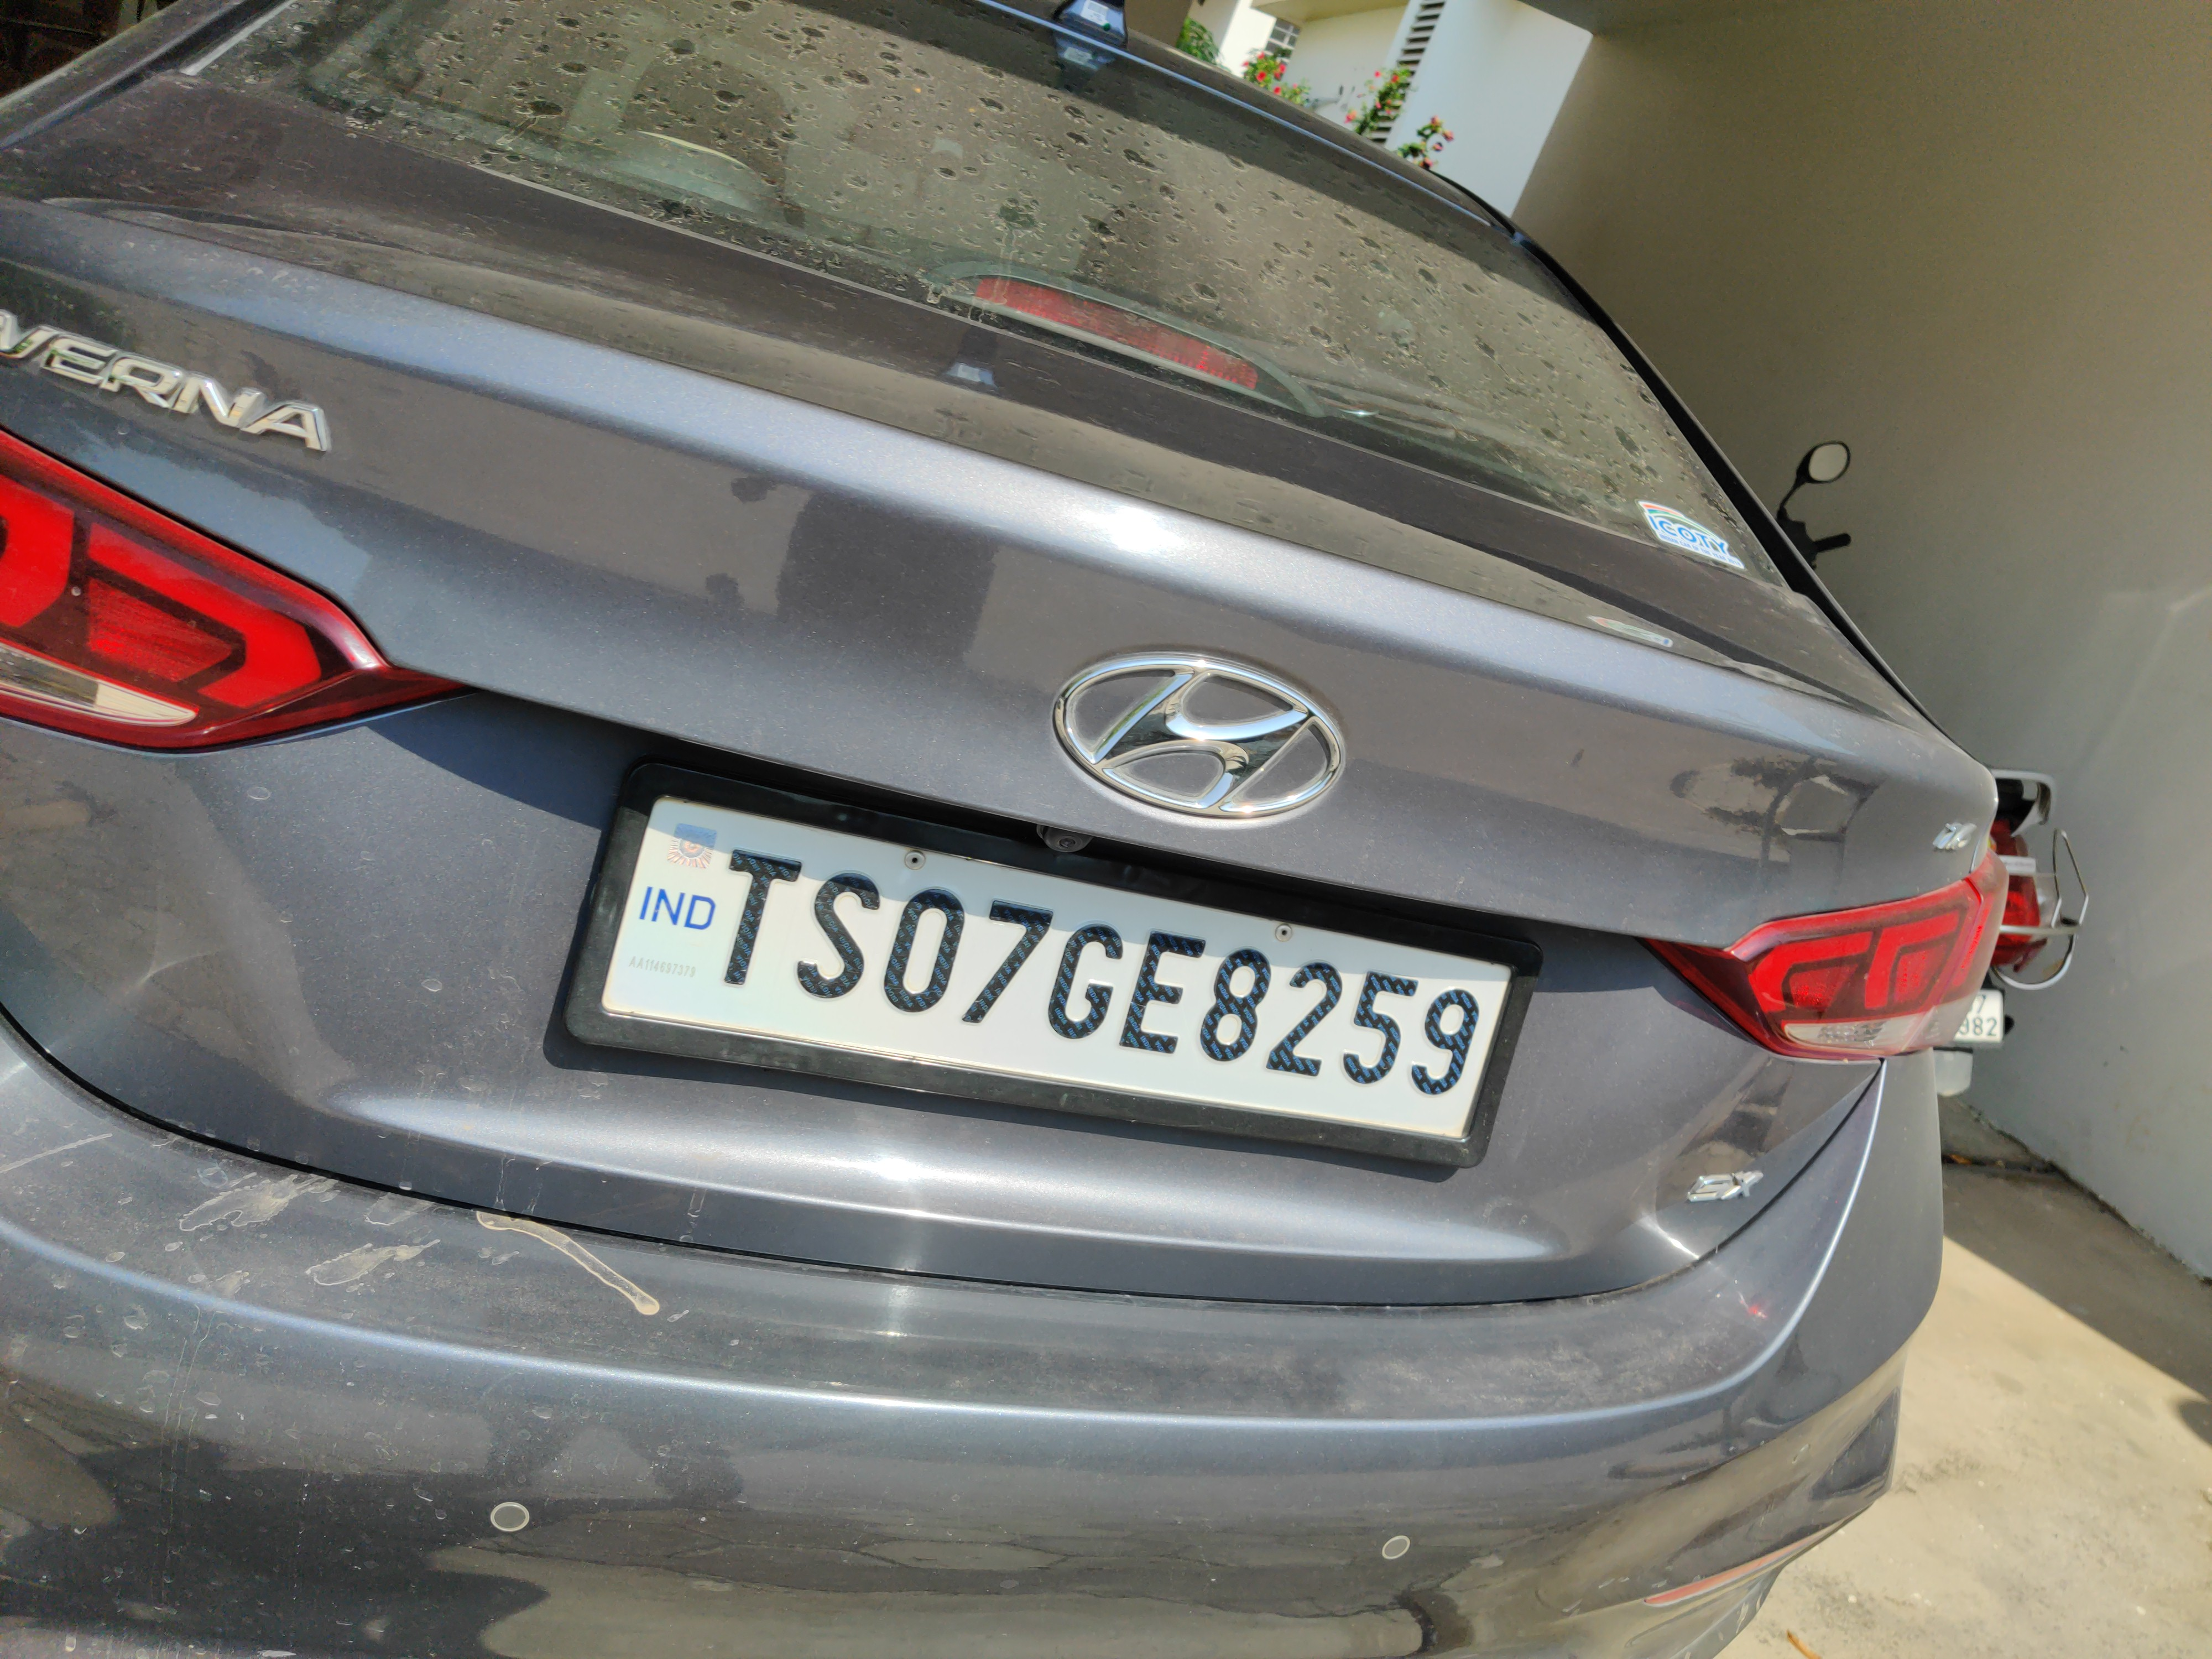plate: (512, 739, 1558, 1196)
